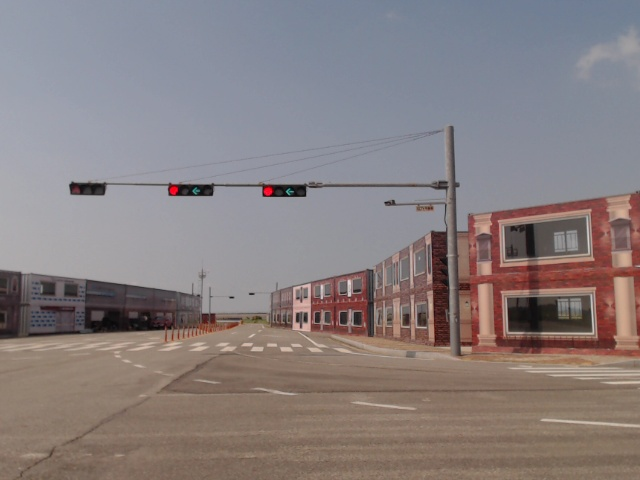left_green_4: (263, 186, 306, 197), (169, 186, 212, 196)
